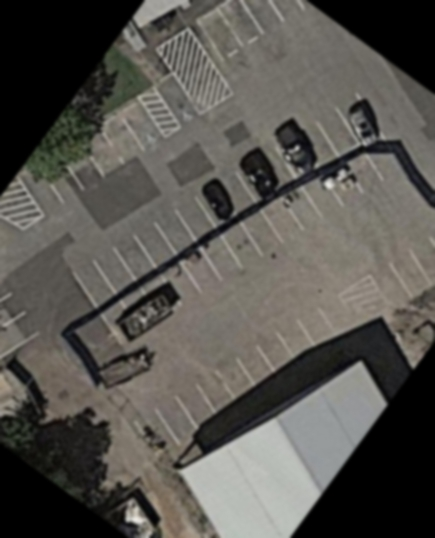parkingspot: (68, 91, 388, 313), (131, 303, 348, 464), (156, 175, 347, 309), (16, 98, 167, 221), (191, 0, 315, 69), (366, 229, 435, 316), (0, 270, 43, 361), (152, 72, 204, 132), (358, 149, 362, 152)
